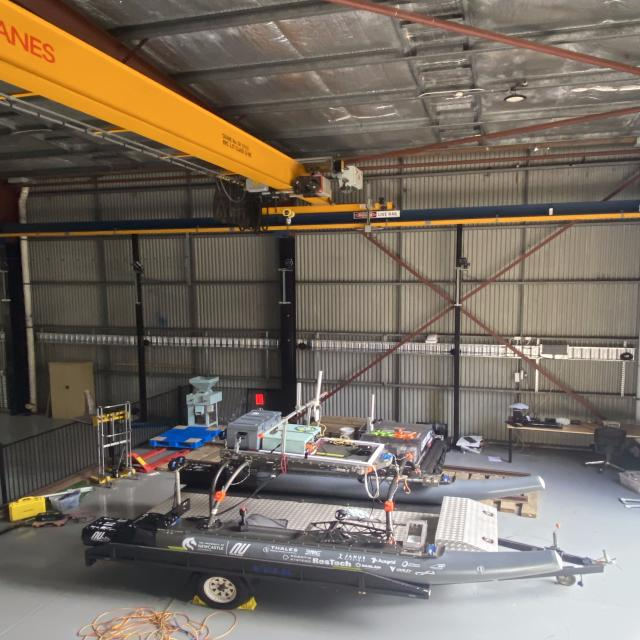matrix: (254, 393, 266, 406)
